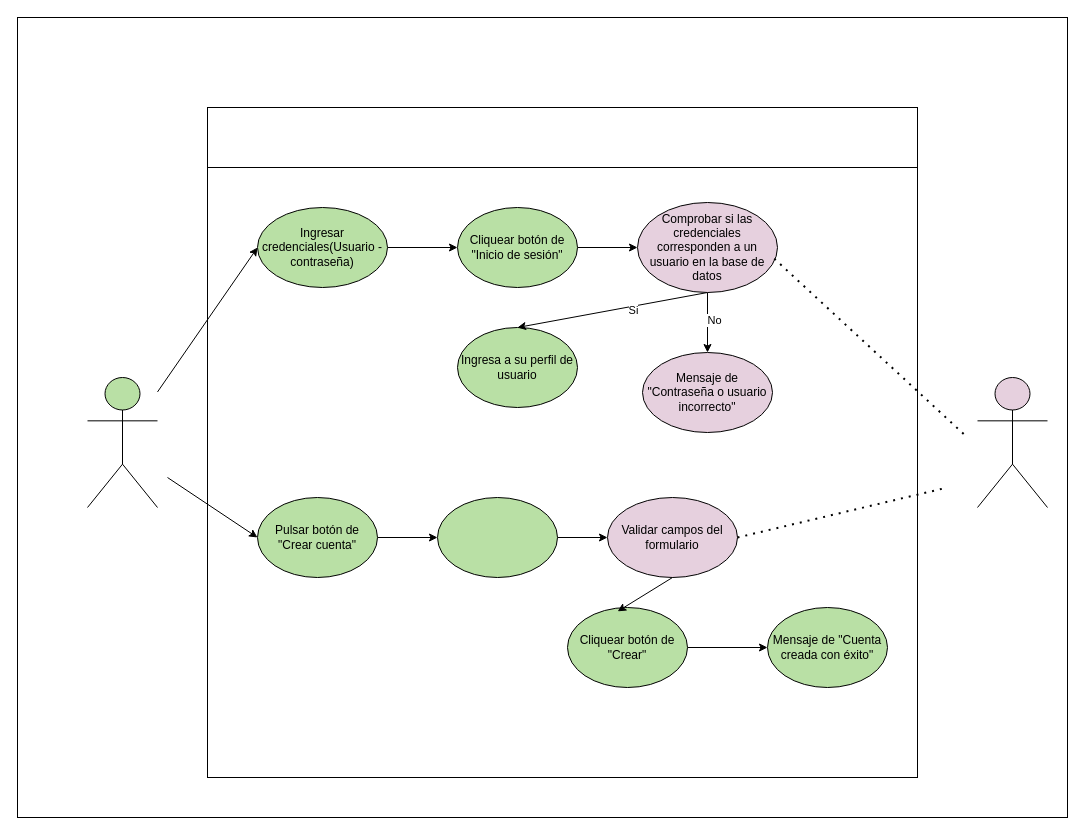
Some shapes in this 1085 by 835 pixel diagram are drawn without their labels. The shapes that lost their labels are listed below. From the top down, each one's box as (x1, y1, x2, y2) in pixels, then its label:
(206, 106, 918, 168): Login
(86, 376, 158, 508): Usuario
(976, 376, 1048, 508): Sistema
(436, 496, 558, 578): Llenar formulario de registro
